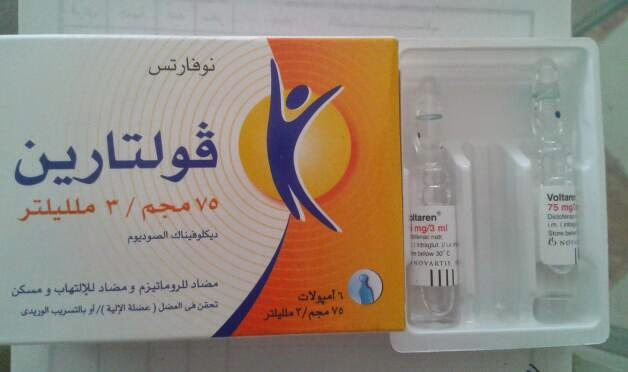Medicine: (0, 33, 406, 332), (526, 57, 587, 322), (406, 77, 462, 333)
